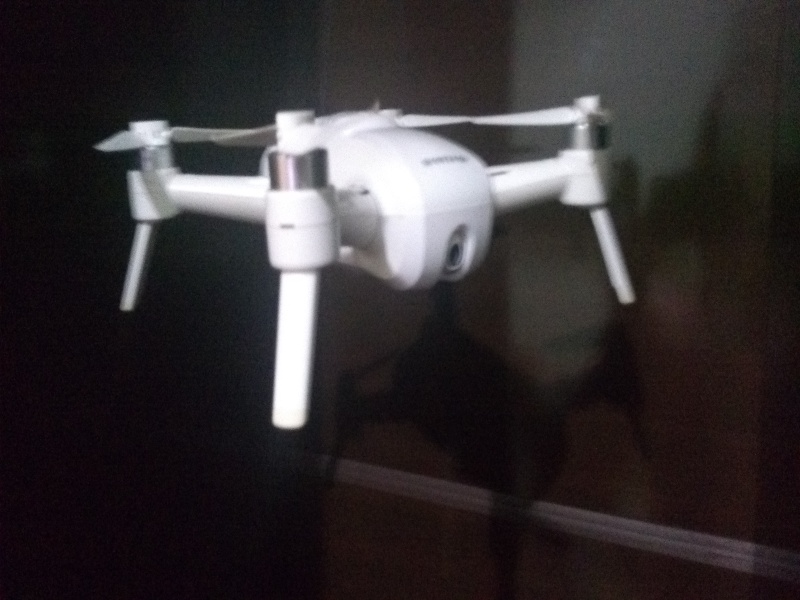drone: (86, 81, 656, 435)
